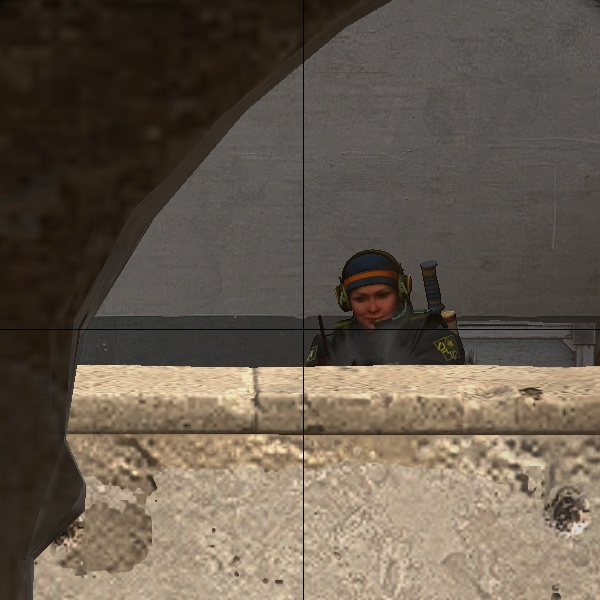ct_body: (299, 243, 473, 372)
ct_head: (321, 240, 430, 335)
